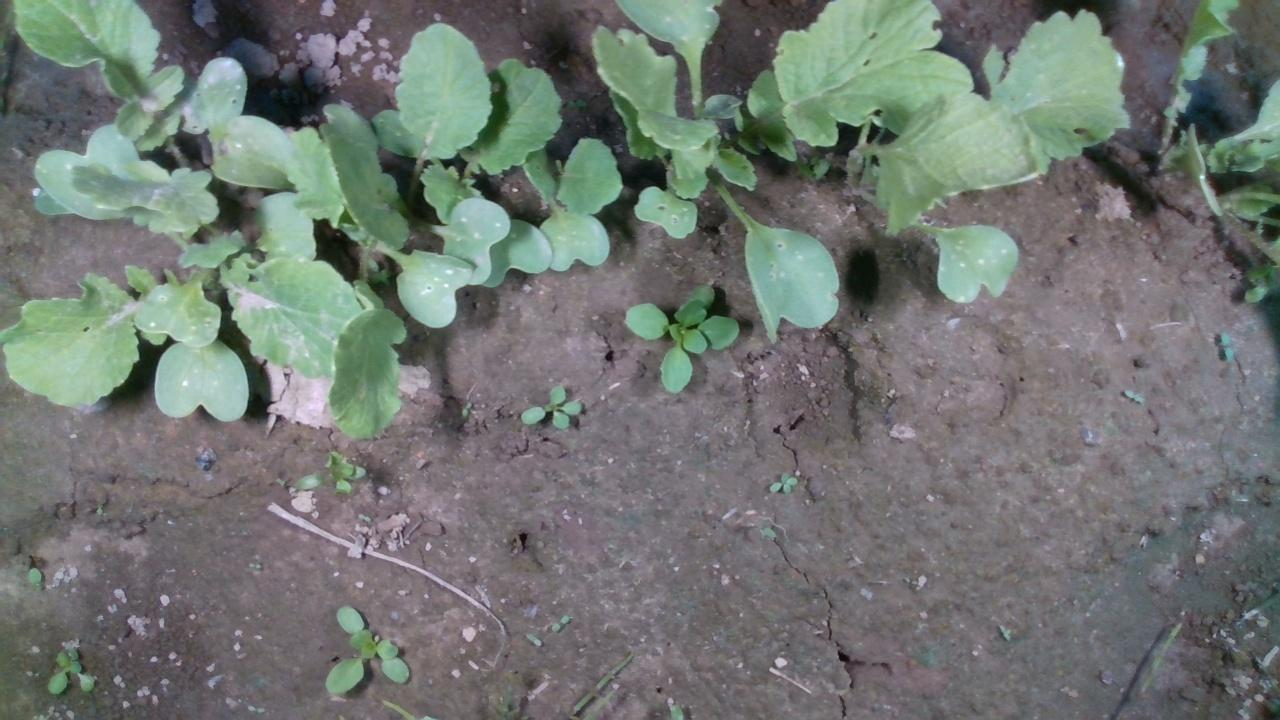weed: (516, 383, 583, 431), (45, 645, 96, 695), (766, 468, 798, 492), (1218, 328, 1233, 364), (1122, 385, 1146, 404), (549, 613, 570, 632), (523, 632, 541, 647), (460, 399, 471, 416)
